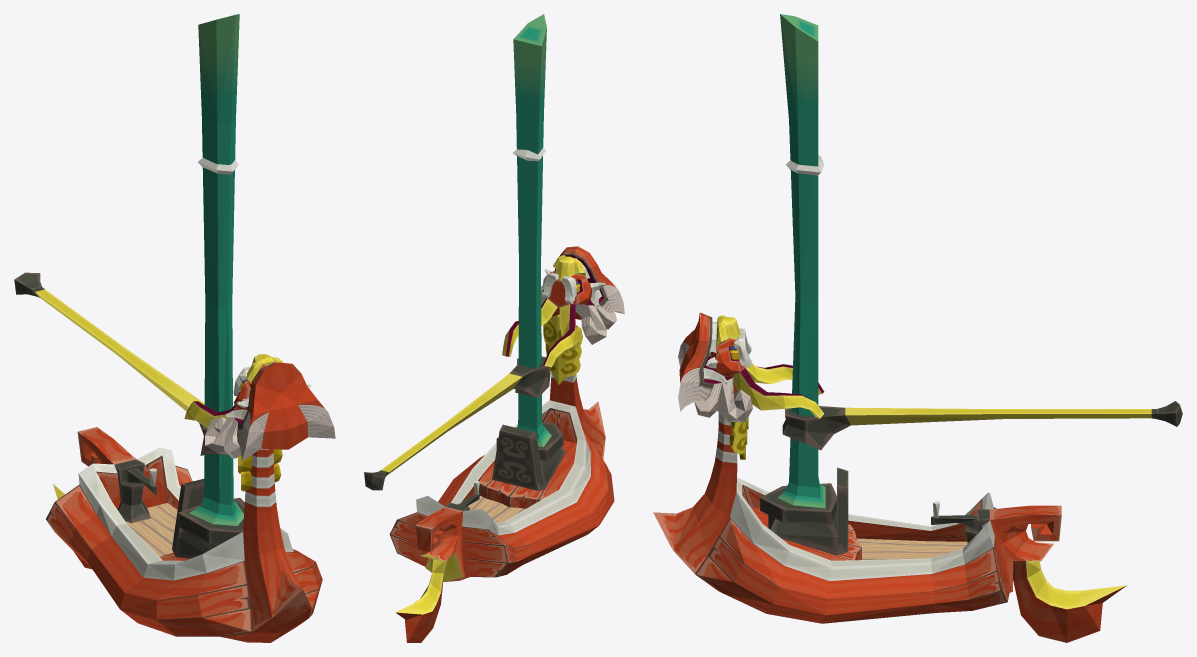
Rendered from boat.obj.
3 renders of one model, left to right at view 1: azimuth 30°, elevation 25°; view 2: azimuth 150°, elevation 25°; view 3: azimuth 270°, elevation 25°, orthographic. The views are drawn at different scales.
Visible parts, largest first — view 1: rdmobj00, rdmobj01; view 2: rdmobj00, rdmobj01; view 3: rdmobj00, rdmobj01.
Boxes of the visible parts, x1=… form: rdmobj00: x1=14, y1=14, x2=322, y2=642; rdmobj01: x1=184, y1=354, x2=335, y2=532; rdmobj00: x1=364, y1=14, x2=614, y2=642; rdmobj01: x1=502, y1=246, x2=624, y2=406; rdmobj00: x1=653, y1=14, x2=1182, y2=642; rdmobj01: x1=678, y1=312, x2=824, y2=491.
Bounding box in the file's own units: 177 × 610 × 465.
3 materials, 3 textured.
